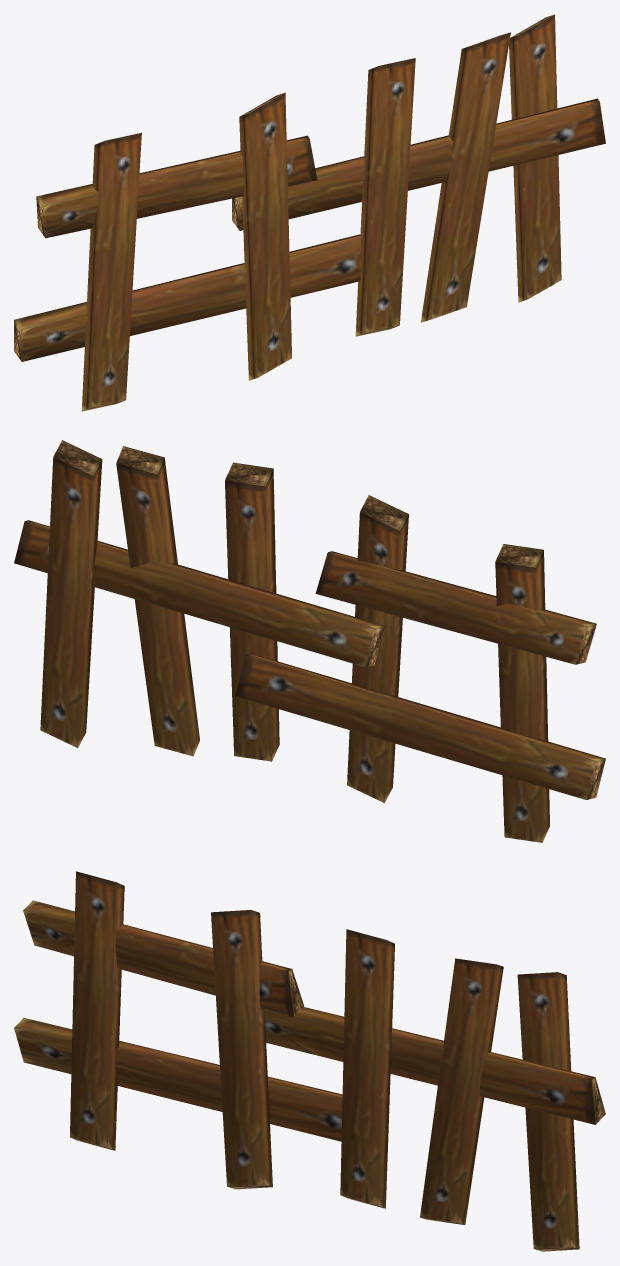
Rendered from weilan.fbx.
The picture shows the model from 3 angles, top to bottom: view 1: azimuth 30°, elevation 25°; view 2: azimuth 150°, elevation 25°; view 3: azimuth 330°, elevation 25°; orthographic projection.
Visible parts, largest first — view 1: weilan1; view 2: weilan1; view 3: weilan1.
Part boxes in pixels (x1,y1,x2,y2): weilan1: (14,14,605,411); weilan1: (14,440,605,842); weilan1: (14,871,605,1251).
Size of the model in its own units: 4.47 by 2.19 by 0.4012.
